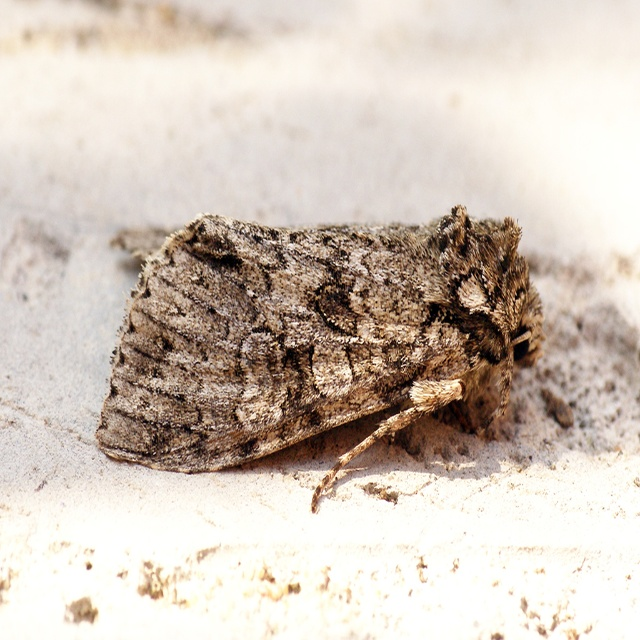Moths and butterflies: (93, 195, 548, 515)
